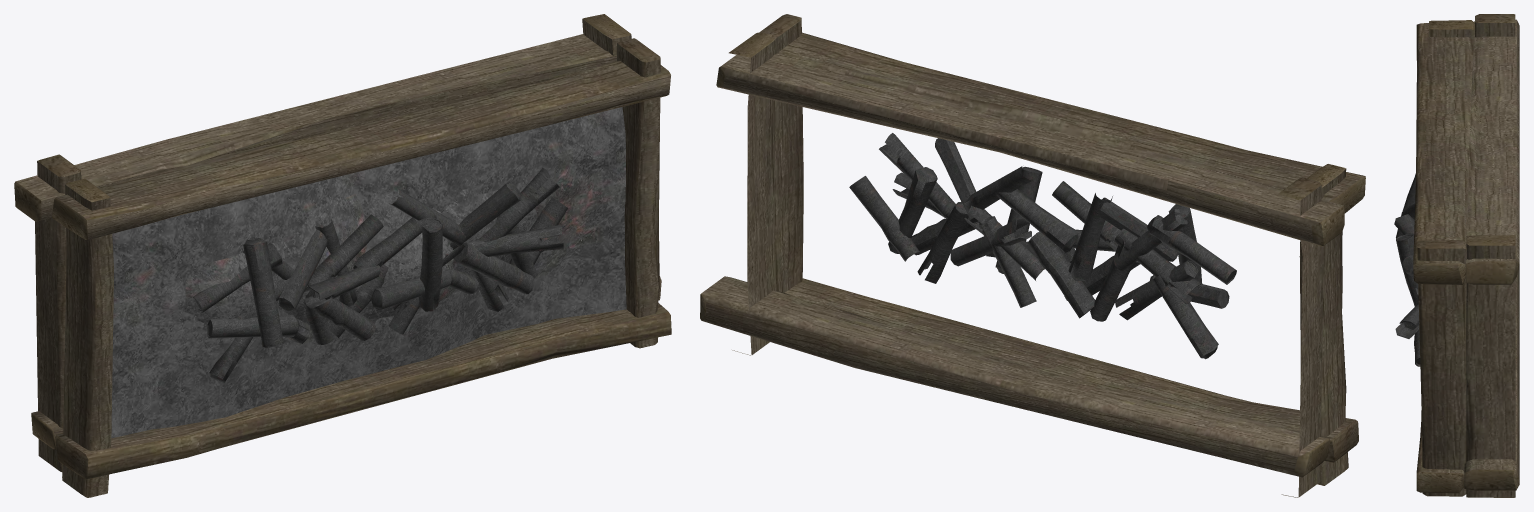
The model's file is VIK_PRO_Hearth_Medium_01A_LOD0-transformed.glb.
3 renders of one model, left to right at view 1: azimuth 30°, elevation 25°; view 2: azimuth 150°, elevation 25°; view 3: azimuth 270°, elevation 25°, orthographic. The views are drawn at different scales.
Parts seen in each view (by area): view 1: VIK_PRO_Hearth_Medium_01A_LOD0; view 2: VIK_PRO_Hearth_Medium_01A_LOD0; view 3: VIK_PRO_Hearth_Medium_01A_LOD0.
Boxes of the visible parts, box(x1,y1,x2,y2) form: VIK_PRO_Hearth_Medium_01A_LOD0: box(14, 14, 671, 497); VIK_PRO_Hearth_Medium_01A_LOD0: box(700, 14, 1365, 497); VIK_PRO_Hearth_Medium_01A_LOD0: box(1394, 14, 1519, 497).
Bounding box in the file's own units: 0.0373 × 0.018 × 0.00761.
2 materials, 2 textured.
